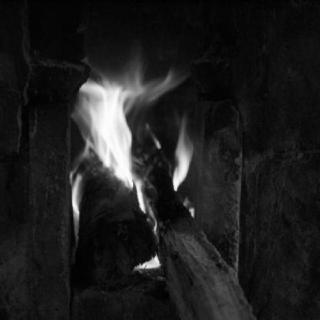Fire: (62, 45, 210, 282)
